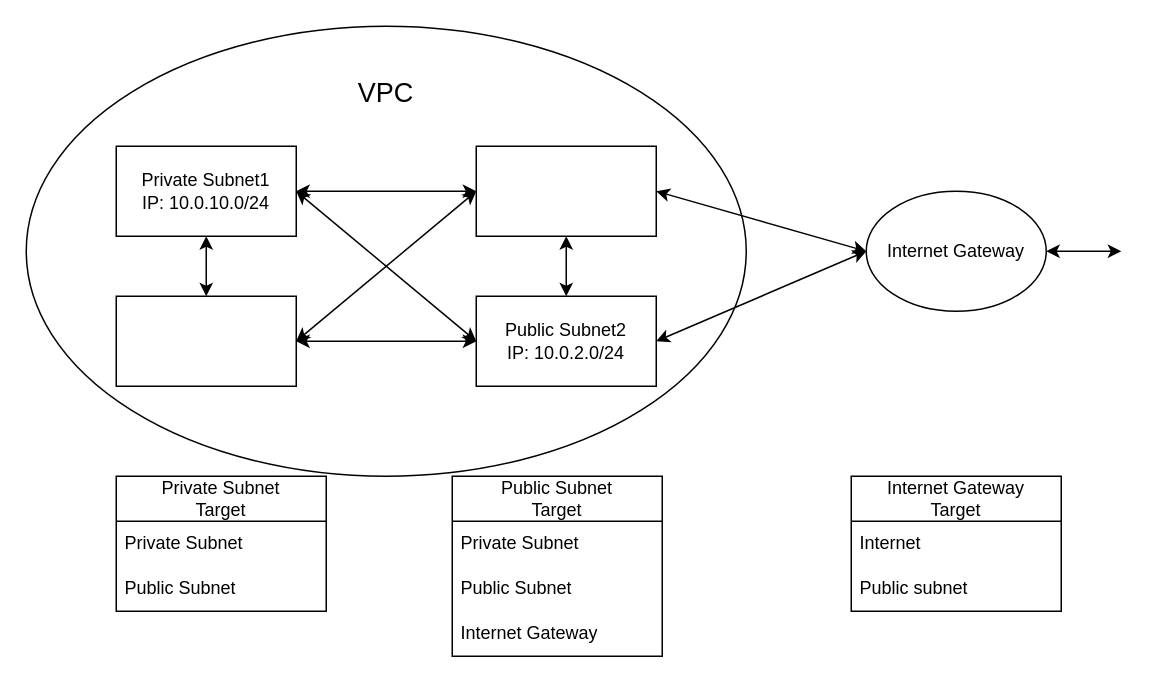
The diagram is 1161 pixels wide and 683 high, and some of its shapes have lost their labels. Each missing label, with the centre of its shape:
Private Subnet2 IP: 10.0.20.0/24: (205,340)
Public Subnet1 IP: 10.0.1.0/24: (565,190)
